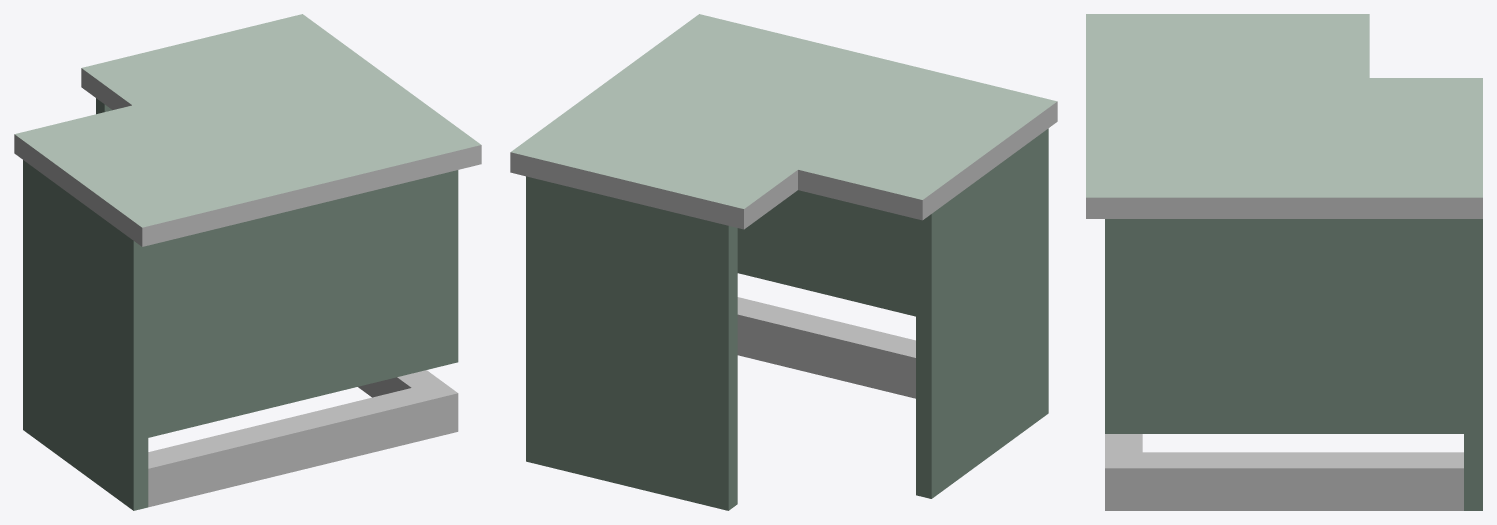
Rendered from desk_corner.obj.
3 views of the same model, side by side, from view 1: azimuth 30°, elevation 25°; view 2: azimuth 150°, elevation 25°; view 3: azimuth 270°, elevation 25° (orthographic). The views are drawn at different scales.
Visible parts, largest first — view 1: desk_corner; view 2: desk_corner; view 3: desk_corner.
Boxes of the visible parts, bbox=[...] form: desk_corner: bbox=[14, 14, 481, 510]; desk_corner: bbox=[510, 14, 1057, 510]; desk_corner: bbox=[1086, 14, 1482, 510].
Size of the model in its own units: 0.92 by 0.75 by 0.84.
